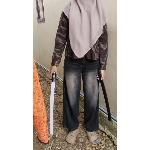Pedang: (47, 65, 61, 139)
